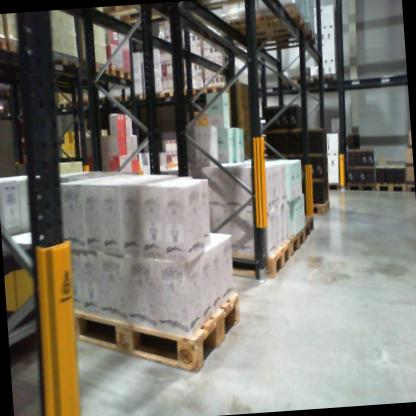pallet: (66, 261, 253, 382), (228, 238, 297, 290), (227, 2, 307, 40), (243, 20, 318, 54), (98, 4, 178, 33), (51, 51, 87, 76), (301, 195, 333, 222), (288, 225, 312, 261), (162, 81, 205, 101), (80, 55, 111, 81), (306, 69, 340, 91), (301, 215, 323, 244), (373, 179, 408, 197), (280, 73, 313, 92), (204, 80, 234, 99), (110, 64, 136, 83), (345, 181, 378, 195), (90, 91, 110, 110), (141, 87, 164, 103), (323, 178, 342, 194), (123, 90, 146, 103), (71, 95, 91, 109), (107, 91, 124, 107), (0, 27, 9, 56), (55, 94, 69, 112)
